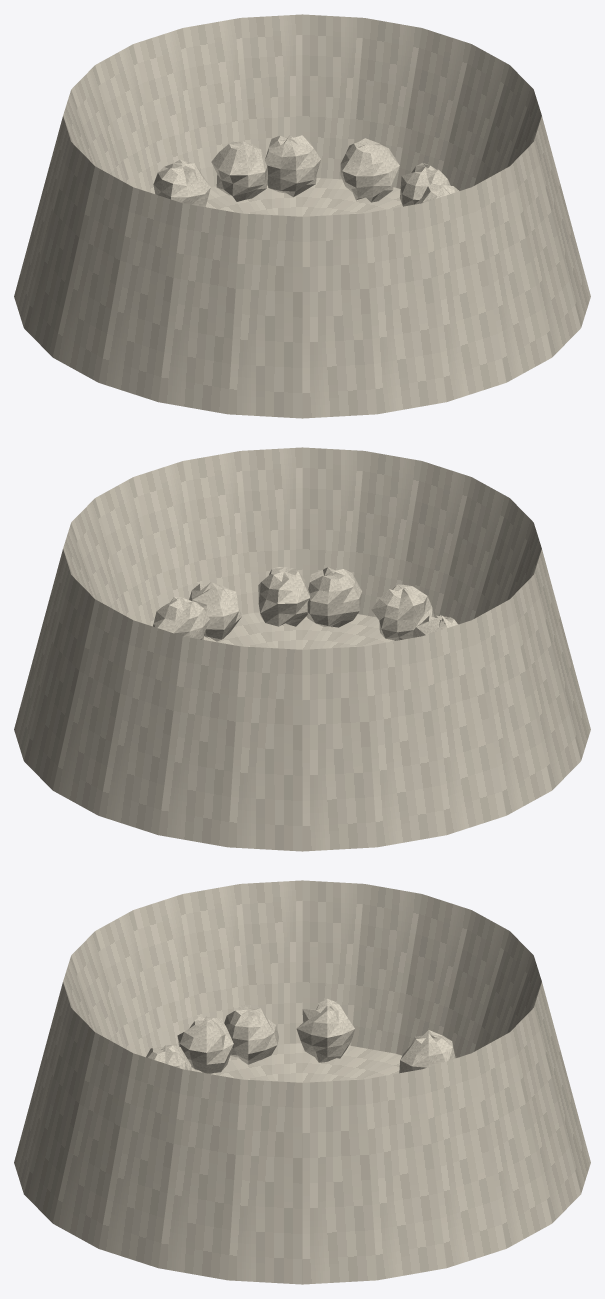
File: cave-and-crystal-networks-cave-pearls-924dfc83.glb
The picture shows the model from 3 angles, top to bottom: view 1: azimuth 30°, elevation 25°; view 2: azimuth 150°, elevation 25°; view 3: azimuth 270°, elevation 25°; orthographic projection.
Visible parts, largest first — view 1: cave-pearls; view 2: cave-pearls; view 3: cave-pearls.
Boxes of the visible parts, bbox=[...] form: cave-pearls: bbox=[14, 14, 590, 418]; cave-pearls: bbox=[14, 447, 590, 851]; cave-pearls: bbox=[14, 880, 590, 1284].
Size of the model in its own units: 1.3 by 0.4499 by 1.3.
1 material, 1 textured.
